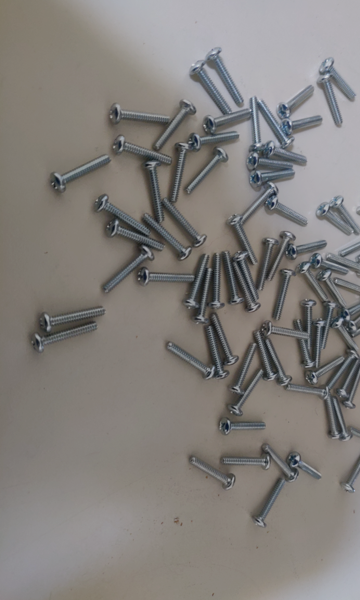longscrew: (99, 248, 156, 292), (95, 199, 157, 236), (51, 154, 111, 192), (146, 215, 192, 262), (192, 60, 231, 112), (209, 47, 245, 103), (103, 224, 166, 253), (30, 324, 98, 350), (40, 305, 108, 331), (187, 457, 236, 493), (187, 151, 227, 195), (154, 103, 193, 148), (166, 201, 207, 243), (110, 104, 170, 132), (112, 136, 172, 164), (165, 344, 215, 377), (252, 478, 284, 529), (258, 99, 291, 147), (204, 324, 230, 383), (166, 141, 190, 204), (319, 74, 348, 126), (323, 59, 358, 101), (143, 162, 165, 228), (230, 215, 259, 265), (233, 252, 262, 302), (187, 253, 212, 311), (262, 443, 301, 480), (230, 371, 265, 412), (233, 340, 259, 395), (233, 266, 262, 315), (243, 185, 280, 223), (212, 312, 238, 366), (298, 265, 333, 305), (137, 267, 197, 290), (275, 267, 300, 321), (268, 339, 297, 385), (257, 238, 280, 295), (270, 234, 296, 282), (255, 330, 277, 386), (267, 198, 309, 227), (280, 82, 314, 117), (328, 353, 360, 390), (307, 356, 347, 385), (288, 452, 325, 483), (204, 108, 253, 131), (224, 251, 245, 304), (317, 204, 351, 236), (332, 196, 360, 234), (321, 271, 349, 309), (332, 393, 352, 443), (188, 131, 240, 150), (250, 168, 296, 188), (310, 254, 350, 277), (261, 324, 312, 342), (212, 253, 228, 310), (288, 240, 329, 262), (194, 271, 211, 324), (265, 142, 310, 162), (248, 152, 293, 172), (321, 303, 338, 355), (340, 358, 360, 398), (221, 454, 271, 470), (297, 319, 312, 372), (334, 320, 360, 350), (327, 253, 360, 276), (285, 383, 327, 401), (282, 115, 321, 134), (218, 420, 267, 435), (311, 318, 325, 369), (343, 452, 360, 492), (250, 97, 262, 151), (334, 278, 360, 300), (347, 366, 360, 409), (329, 402, 341, 448), (305, 298, 315, 351), (340, 233, 360, 256), (348, 303, 360, 333), (342, 303, 360, 322), (351, 432, 360, 452), (354, 314, 360, 336), (357, 207, 360, 232), (358, 236, 360, 261)
